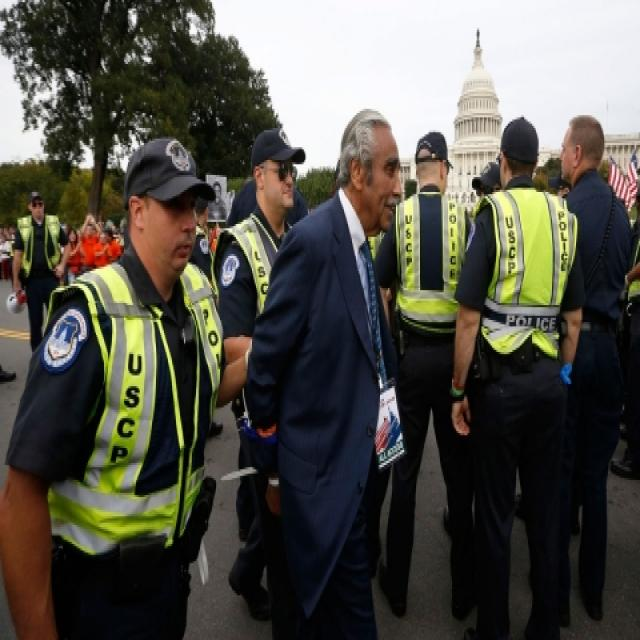police: (20, 112, 214, 640), (453, 69, 572, 640), (401, 123, 484, 639), (228, 115, 304, 476), (0, 149, 79, 364)
